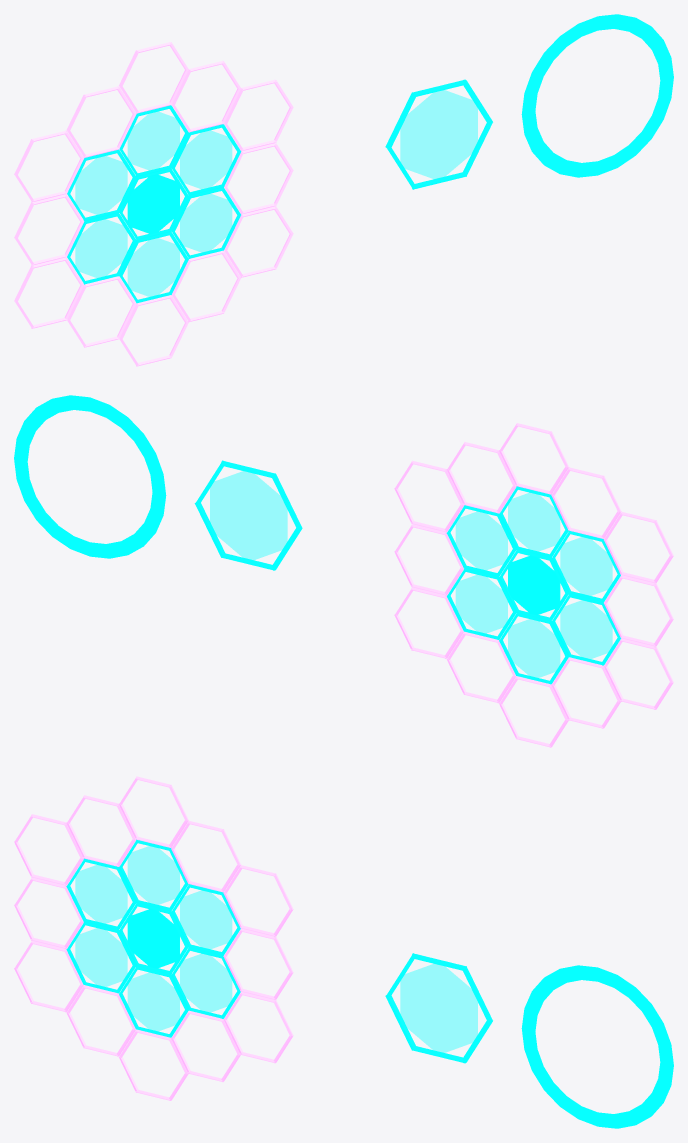
Rendered from FX_ShieldHits.fbx.
3 views of the same model, one above another, from view 1: azimuth 30°, elevation 25°; view 2: azimuth 150°, elevation 25°; view 3: azimuth 330°, elevation 25° (orthographic).
Visible parts, largest first — view 1: ShieldHit_Ripple, ShieldHit_SingleFill, ShieldHit_Fill00, ShieldHit_Fill-10, ShieldHit_Fill-11, ShieldHit_Fill0-1, ShieldHit_Fill10, ShieldHit_Fill01, ShieldHit_Fill1-1, ShieldHit_SingleOutline, ShieldHit_Hex02, ShieldHit_Hex-22 (+17 smaller); view 2: ShieldHit_Ripple, ShieldHit_SingleFill, ShieldHit_Fill00, ShieldHit_Fill-11, ShieldHit_Fill-10, ShieldHit_Fill0-1, ShieldHit_Fill1-1, ShieldHit_Fill10, ShieldHit_Fill01, ShieldHit_SingleOutline, ShieldHit_Hex-22, ShieldHit_Hex-12 (+17 smaller); view 3: ShieldHit_Ripple, ShieldHit_SingleFill, ShieldHit_Fill00, ShieldHit_Fill-11, ShieldHit_Fill-10, ShieldHit_Fill0-1, ShieldHit_Fill10, ShieldHit_Fill01, ShieldHit_Fill1-1, ShieldHit_SingleOutline, ShieldHit_Hex20, ShieldHit_Hex11 (+17 smaller).
Part boxes in pixels (bbox=[...]): ShieldHit_Ripple: bbox=[521, 14, 673, 177]; ShieldHit_SingleFill: bbox=[400, 90, 477, 179]; ShieldHit_Fill00: bbox=[127, 174, 179, 234]; ShieldHit_Fill-10: bbox=[75, 219, 127, 277]; ShieldHit_Fill-11: bbox=[75, 156, 127, 214]; ShieldHit_Fill0-1: bbox=[128, 238, 179, 296]; ShieldHit_Fill10: bbox=[180, 130, 231, 189]; ShieldHit_Fill01: bbox=[128, 112, 179, 170]; ShieldHit_Fill1-1: bbox=[180, 194, 231, 252]; ShieldHit_SingleOutline: bbox=[385, 79, 492, 189]; ShieldHit_Hex02: bbox=[119, 42, 188, 113]; ShieldHit_Hex-22: bbox=[14, 130, 84, 202]; ShieldHit_Ripple: bbox=[14, 395, 166, 558]; ShieldHit_SingleFill: bbox=[210, 471, 287, 560]; ShieldHit_Fill00: bbox=[508, 555, 560, 615]; ShieldHit_Fill-11: bbox=[560, 537, 612, 595]; ShieldHit_Fill-10: bbox=[560, 600, 612, 658]; ShieldHit_Fill0-1: bbox=[508, 619, 559, 677]; ShieldHit_Fill1-1: bbox=[456, 575, 507, 633]; ShieldHit_Fill10: bbox=[456, 511, 507, 570]; ShieldHit_Fill01: bbox=[508, 493, 559, 551]; ShieldHit_SingleOutline: bbox=[194, 460, 302, 570]; ShieldHit_Hex-22: bbox=[603, 511, 673, 583]; ShieldHit_Hex-12: bbox=[551, 467, 621, 538]; ShieldHit_Ripple: bbox=[521, 965, 673, 1128]; ShieldHit_SingleFill: bbox=[400, 964, 477, 1052]; ShieldHit_Fill00: bbox=[127, 909, 179, 968]; ShieldHit_Fill-11: bbox=[75, 865, 127, 923]; ShieldHit_Fill-10: bbox=[75, 928, 127, 986]; ShieldHit_Fill0-1: bbox=[128, 972, 179, 1031]; ShieldHit_Fill10: bbox=[180, 890, 231, 949]; ShieldHit_Fill01: bbox=[128, 846, 179, 904]; ShieldHit_Fill1-1: bbox=[180, 954, 231, 1012]; ShieldHit_SingleOutline: bbox=[385, 953, 492, 1063]; ShieldHit_Hex20: bbox=[223, 865, 293, 936]; ShieldHit_Hex11: bbox=[171, 820, 241, 892].
Bounding box in the file's own units: 1.04 × 0.4766 × 0.008.
